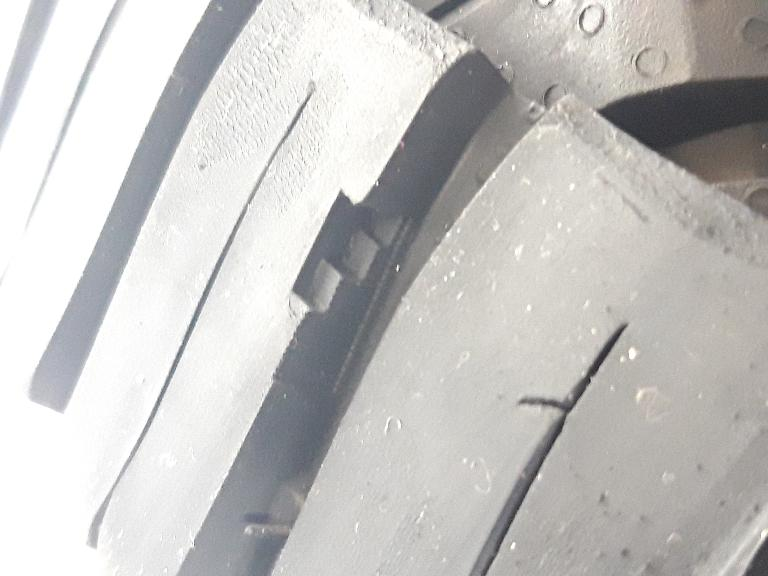temoin:75: (277, 181, 419, 353)
